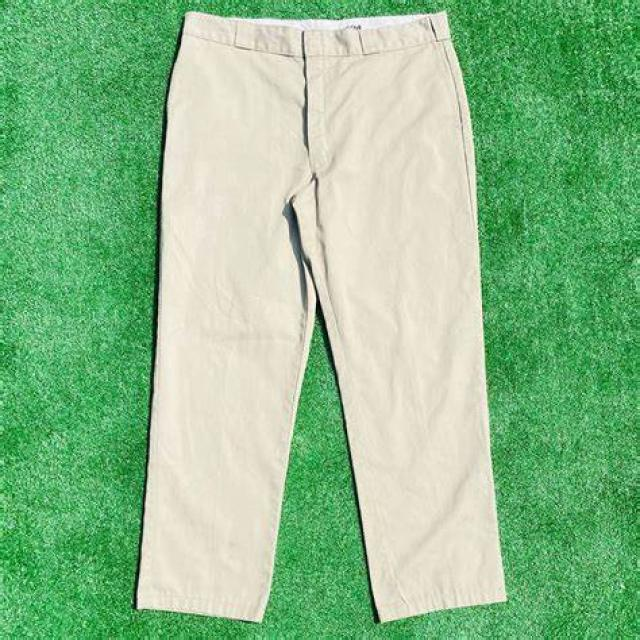long-pants: (134, 11, 505, 625)
